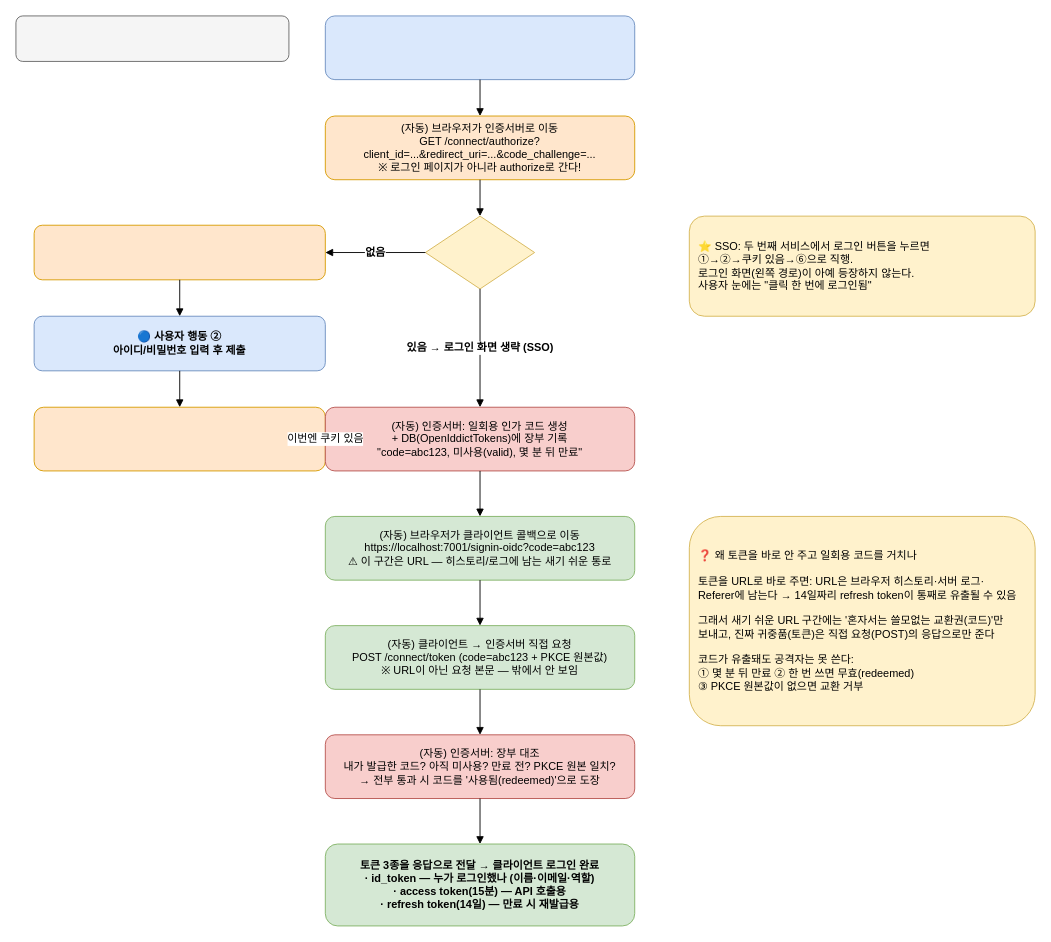
This 1051x942 diagram has some shape labels left out. The centre of each missing label's shape, as x and y in pixels:
(자동) /login 화면으로 리다이렉트 복귀 주소(returnUrl)에 위 authorize 요청 전체를 보관: [179,252]
(자동) 해시 검증 성공 → 세션 쿠키 발급 → 보관해둔 returnUrl(authorize)로 자동 복귀 ※ 버튼을 다시 누를 필요 없음: [179,438]
세션 쿠키 있음?: [480,252]
🔵 사용자 행동 ① 클라이언트(:7001) 화면에서 [로그인] 버튼 클릭 — 사용자가 누르는 버튼은 여기 하나뿐: [479,47]
🔵 사용자가 직접 하는 행동 (단 2개) ⚪ 나머지는 전부 자동 (리다이렉트/서버 처리): [152,38]
